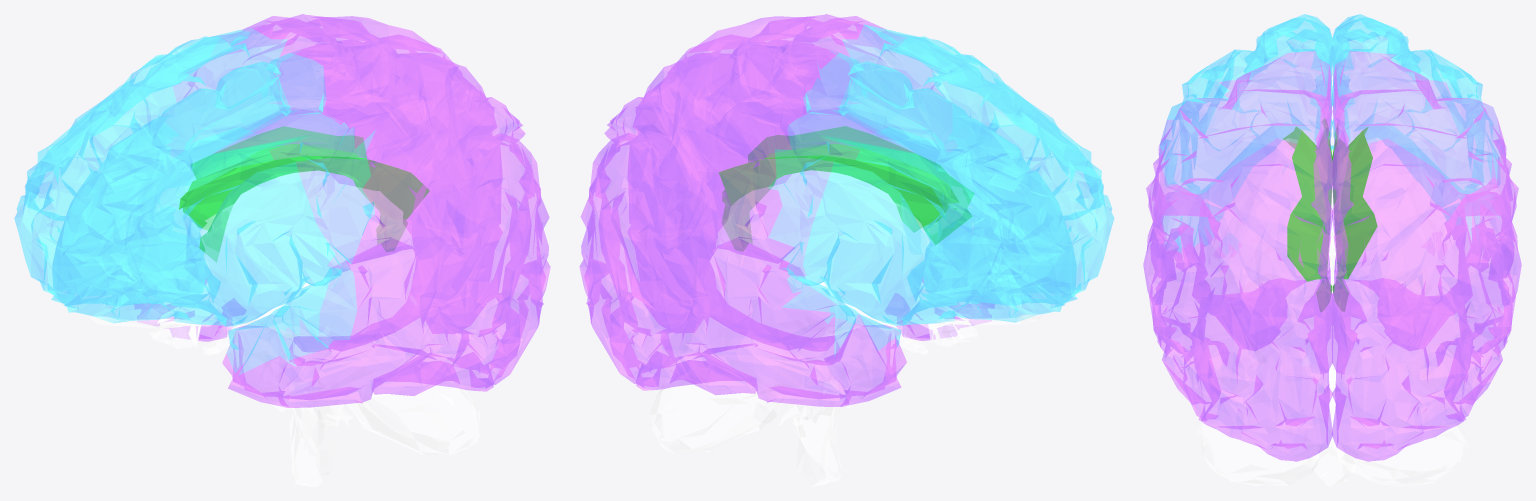
The model's file is modeldraco.gltf.
The picture shows the model from 3 angles, left to right: view 1: azimuth 30°, elevation 25°; view 2: azimuth 150°, elevation 25°; view 3: azimuth 270°, elevation 25°; orthographic projection. The views are drawn at different scales.
Visible parts, largest first — view 1: right_08 - Default_0 Back, right_08 - Default_0 Front, centr_08 - Default_0, left_08 - Default_0 Front, left_08 - Default_0 Back, right_08 - Default_0.001, left_08 - Default_0.001; view 2: left_08 - Default_0 Back, left_08 - Default_0 Front, centr_08 - Default_0, right_08 - Default_0 Front, right_08 - Default_0 Back, left_08 - Default_0.001, right_08 - Default_0.001; view 3: left_08 - Default_0 Back, right_08 - Default_0 Back, centr_08 - Default_0, right_08 - Default_0 Front, left_08 - Default_0 Front, right_08 - Default_0.001, left_08 - Default_0.001.
Part boxes in pixels (x1,y1,x2,y2): right_08 - Default_0 Back: (217, 41, 550, 407); right_08 - Default_0 Front: (52, 51, 375, 374); centr_08 - Default_0: (90, 171, 479, 486); left_08 - Default_0 Front: (14, 27, 291, 306); left_08 - Default_0 Back: (134, 14, 502, 341); right_08 - Default_0.001: (179, 153, 429, 262); left_08 - Default_0.001: (183, 126, 385, 244); left_08 - Default_0 Back: (579, 41, 912, 406); left_08 - Default_0 Front: (768, 51, 1076, 355); centr_08 - Default_0: (649, 170, 1041, 486); right_08 - Default_0 Front: (842, 24, 1114, 305); right_08 - Default_0 Back: (627, 14, 994, 340); left_08 - Default_0.001: (719, 152, 942, 251); right_08 - Default_0.001: (744, 126, 974, 244); left_08 - Default_0 Back: (1331, 51, 1521, 461); right_08 - Default_0 Back: (1143, 51, 1333, 461); centr_08 - Default_0: (1194, 138, 1468, 486); right_08 - Default_0 Front: (1159, 14, 1333, 252); left_08 - Default_0 Front: (1331, 14, 1500, 238); right_08 - Default_0.001: (1283, 118, 1332, 311); left_08 - Default_0.001: (1332, 124, 1377, 311).
Size of the model in its own units: 4.73 by 4.32 by 3.5.
Materials: 2 (2 with a texture image).
